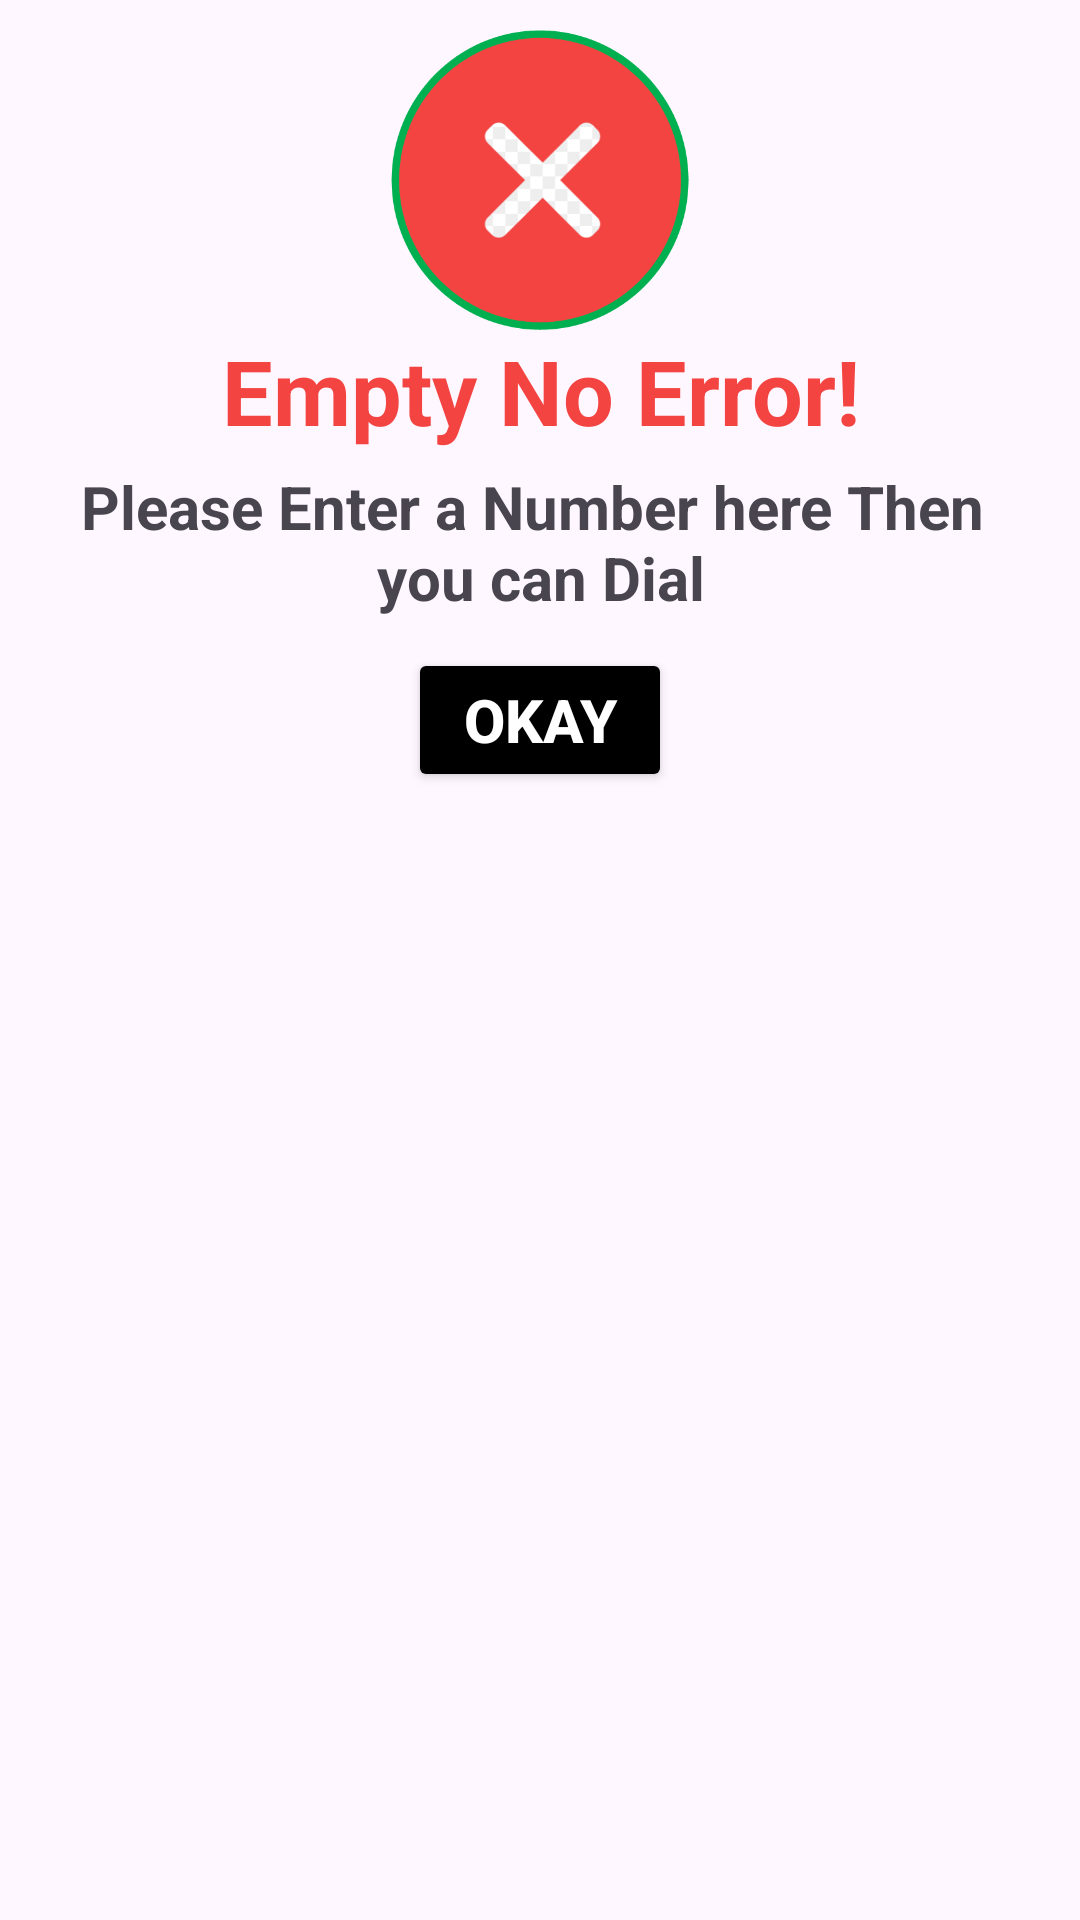

Point at icon controls on the screen. Image size 1080px x 1920px, points as (x,y).
failed: (540,180)
